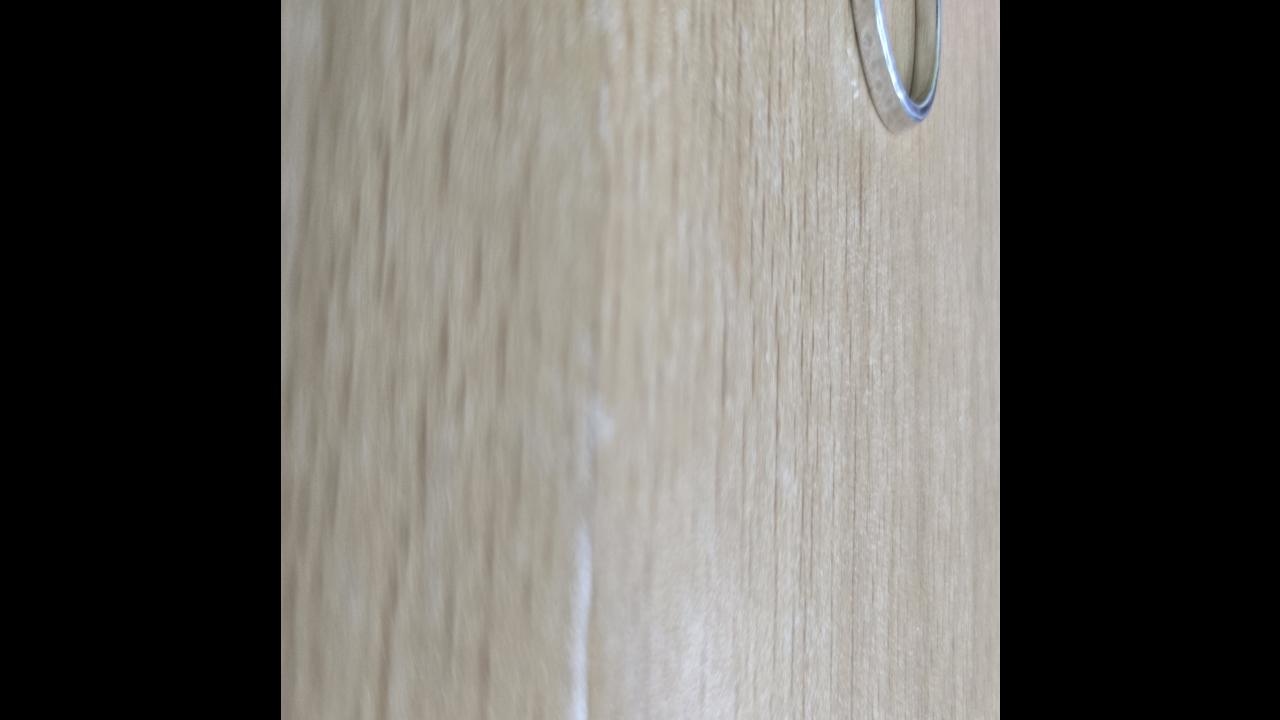ring: (841, 0, 941, 139)
